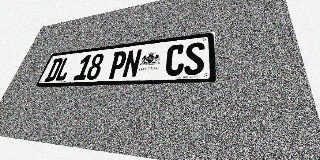1: (73, 54, 94, 80)
8: (85, 53, 106, 80)
C: (164, 44, 185, 76)
D: (44, 58, 64, 82)
L: (54, 57, 74, 81)
N: (121, 49, 143, 78)
P: (107, 50, 128, 79)
S: (184, 42, 205, 75)
